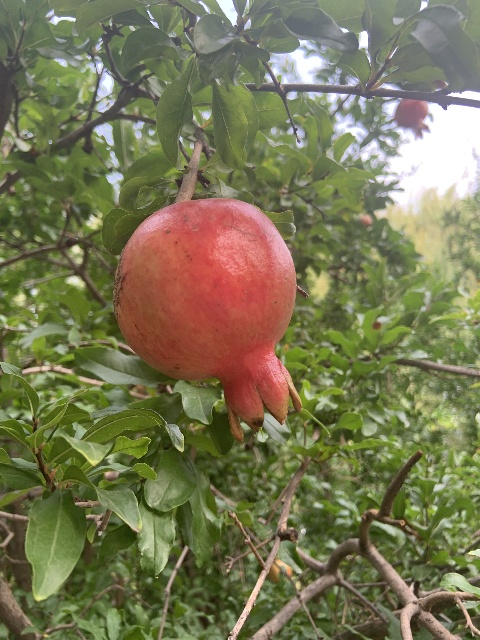ripe: (114, 197, 300, 441), (394, 98, 431, 140)
